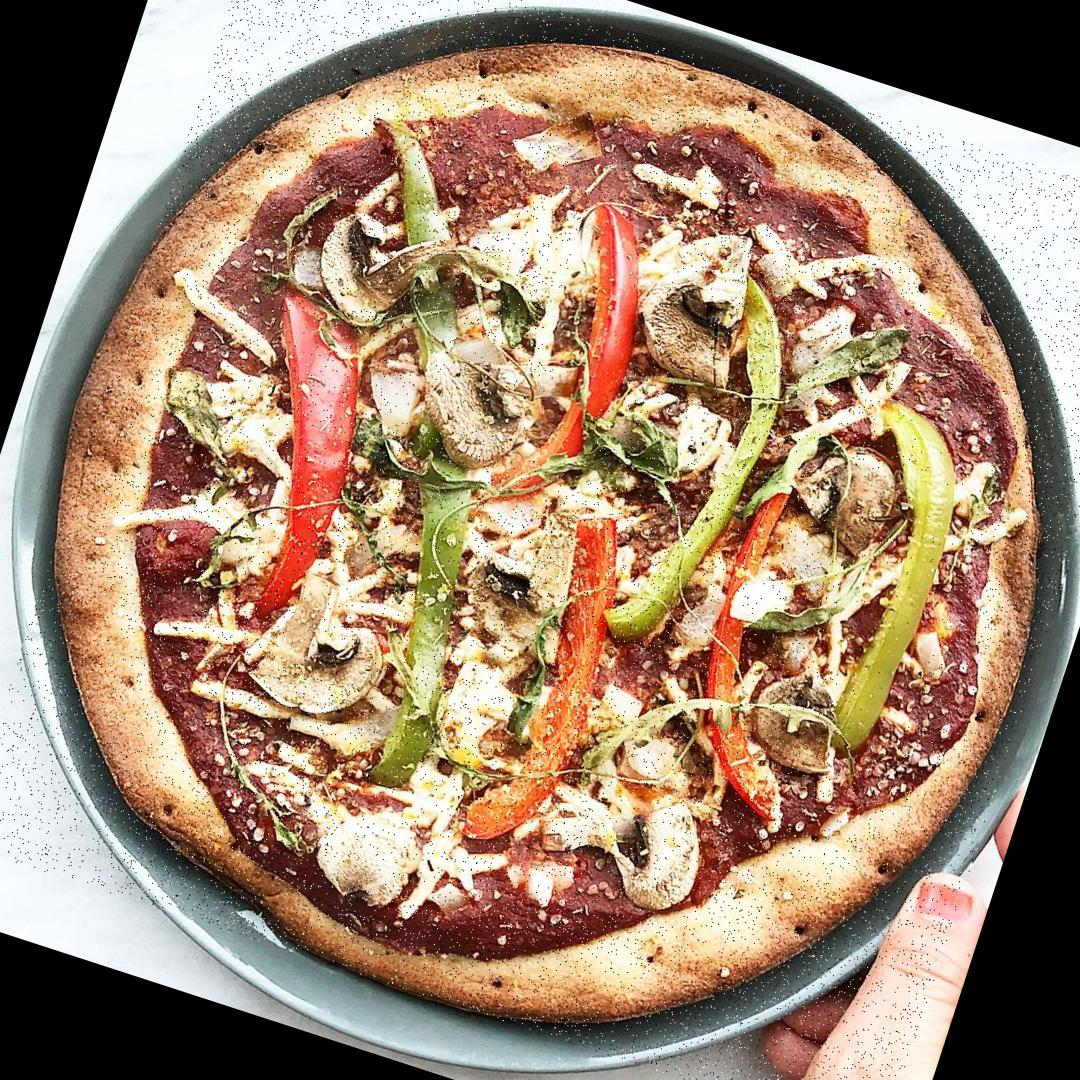Mushroom: (322, 736, 484, 912), (384, 320, 558, 468), (758, 416, 916, 570), (581, 368, 743, 509), (450, 483, 598, 634), (292, 199, 429, 347), (576, 784, 714, 922), (634, 277, 770, 416), (724, 653, 864, 787), (279, 566, 401, 686)
Peppers: (620, 253, 812, 666), (792, 400, 1002, 764), (185, 290, 393, 620), (653, 497, 860, 821), (468, 529, 642, 884), (508, 200, 690, 486), (347, 474, 514, 772), (322, 123, 510, 361)
Pizza: (0, 0, 1080, 1080)
